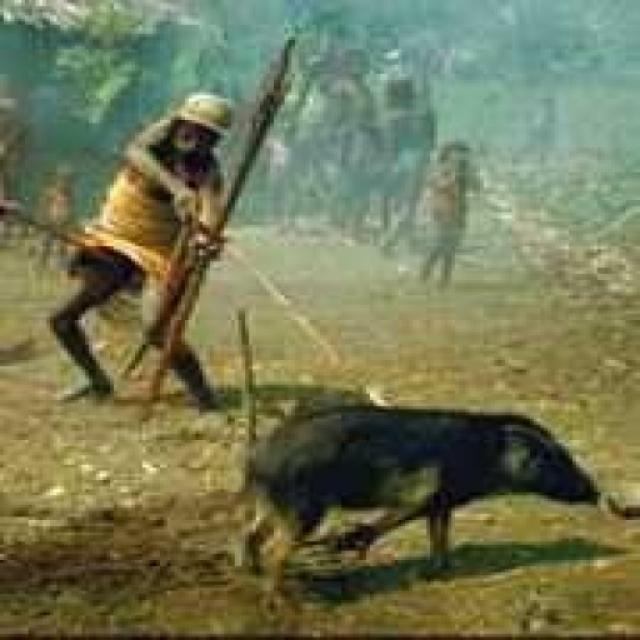pig: (222, 368, 640, 583)
